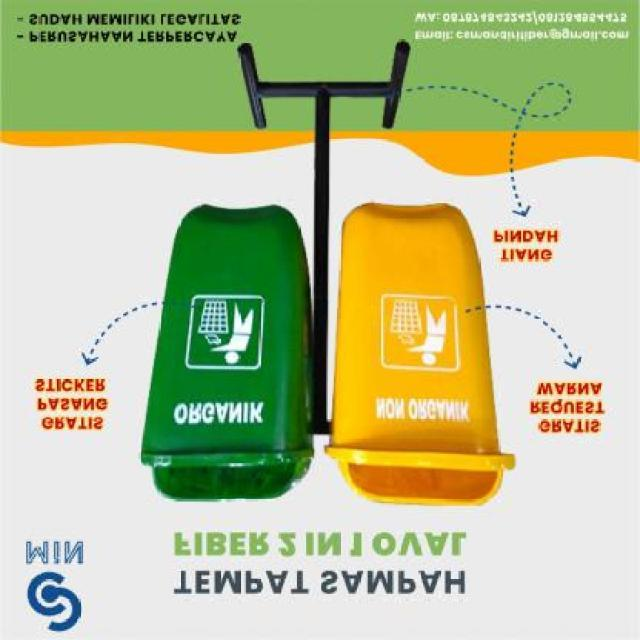garbage container: (322, 188, 522, 510), (133, 197, 322, 510)
